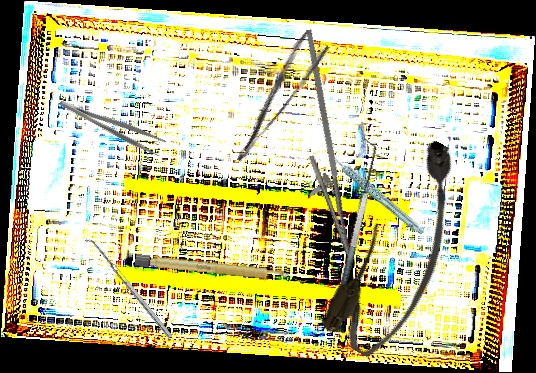Cannula: (315, 132, 490, 367)
Dressing Forceps: (216, 29, 333, 164), (57, 89, 168, 159)
Handpiece: (329, 135, 426, 250)
Needle Holder: (262, 28, 379, 262)
Scalpel Handle: (134, 253, 290, 283)
Spatula Surgical: (314, 138, 388, 325), (83, 235, 173, 342)
